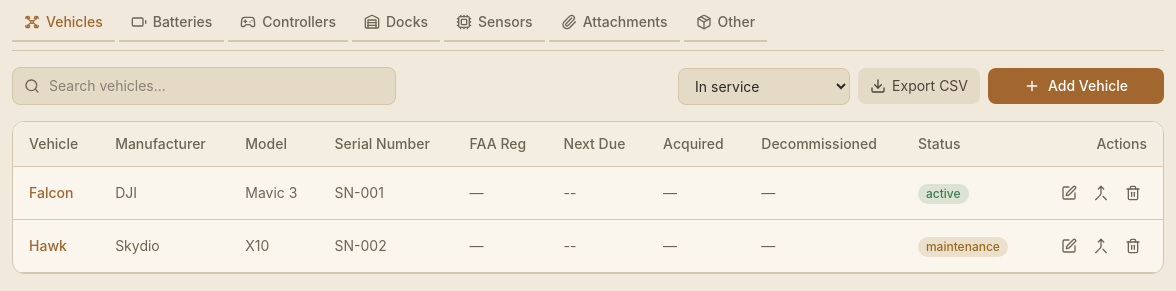
FleetPage › shows the Other tab with lifecycle dates and detail links
Expected: the link "Falcon" is shown, [29, 184, 73, 201]
Click the button "Other" at [725, 27], box [684, 12, 767, 42]
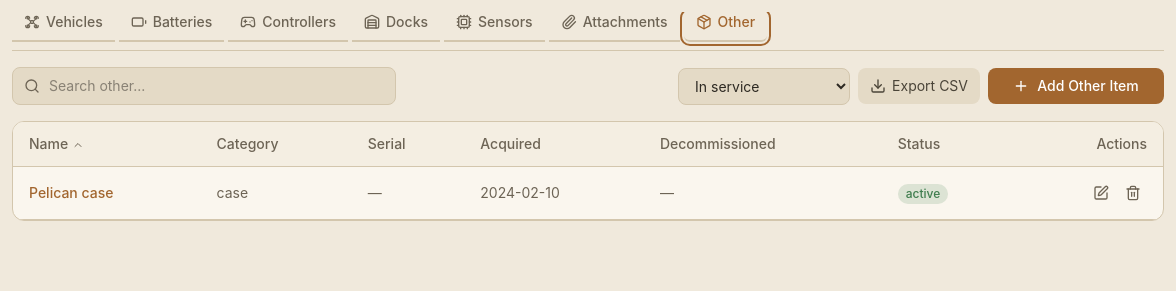
Expected: the text "2024-02-10" is shown, [464, 166, 644, 220]
Expected: the button "Add Other Item" is shown, [988, 68, 1164, 104]
